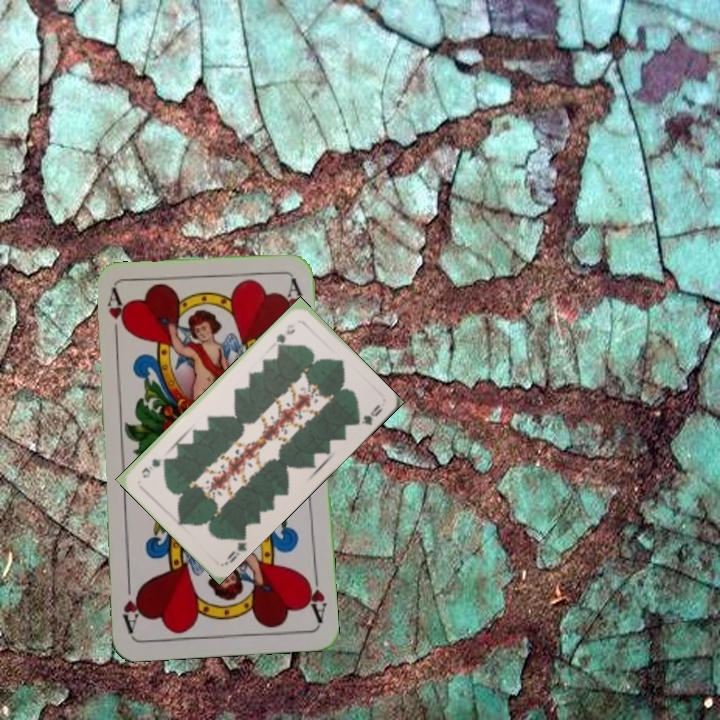G9: (220, 532, 249, 567), (272, 320, 298, 351)
HA: (301, 566, 329, 625), (103, 287, 127, 346)
